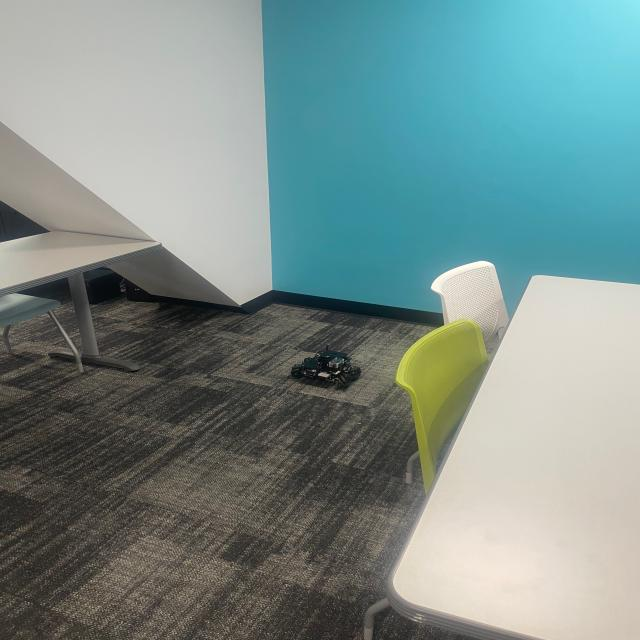ArduinoCar3: (298, 342, 362, 390)
